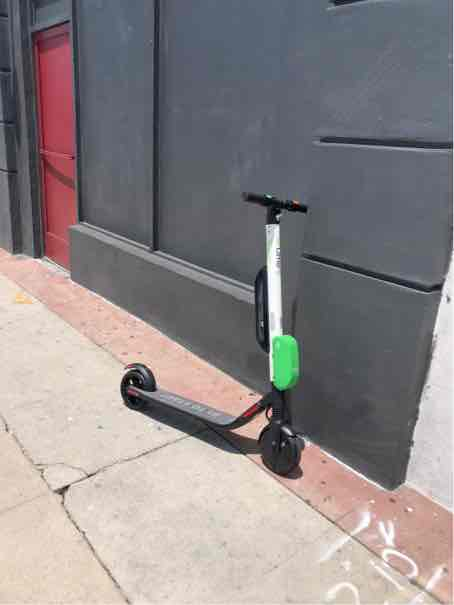scooter: (110, 184, 320, 484)
